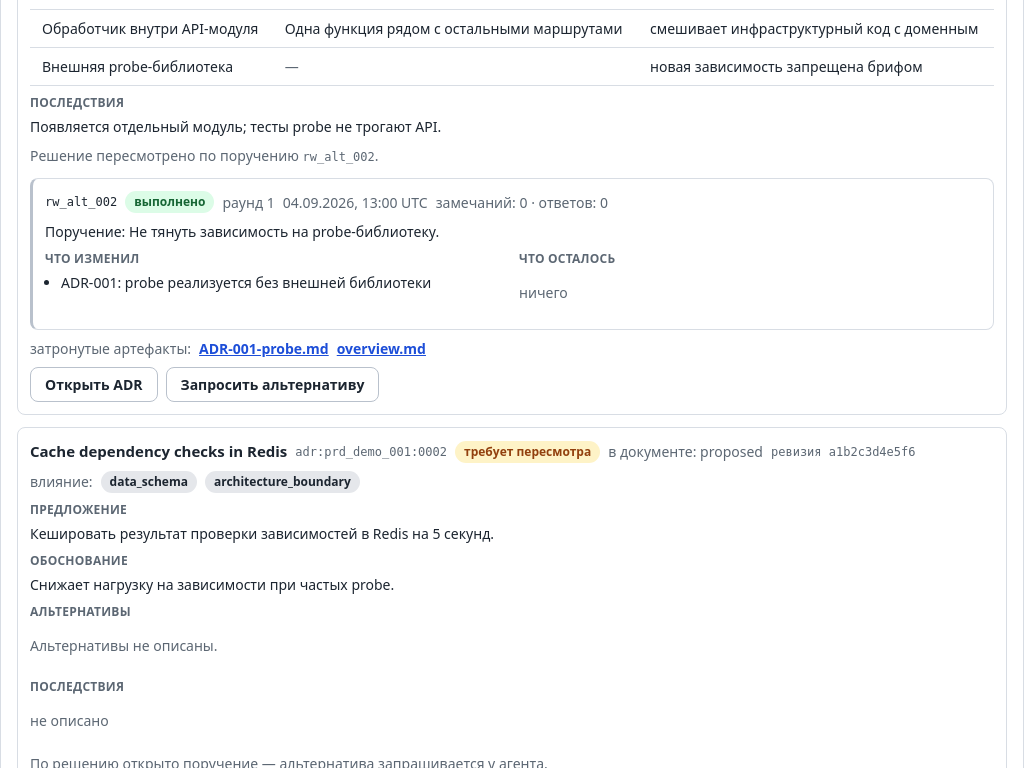
Test: ArchitecturePhase (T095/T093) › shows the 409 server text when another order of the phase is pending
(page scrolled)
Click the button with test id "alternative-toggle-adr:prd_demo_001:0001" at (273, 385), box [166, 368, 380, 402]
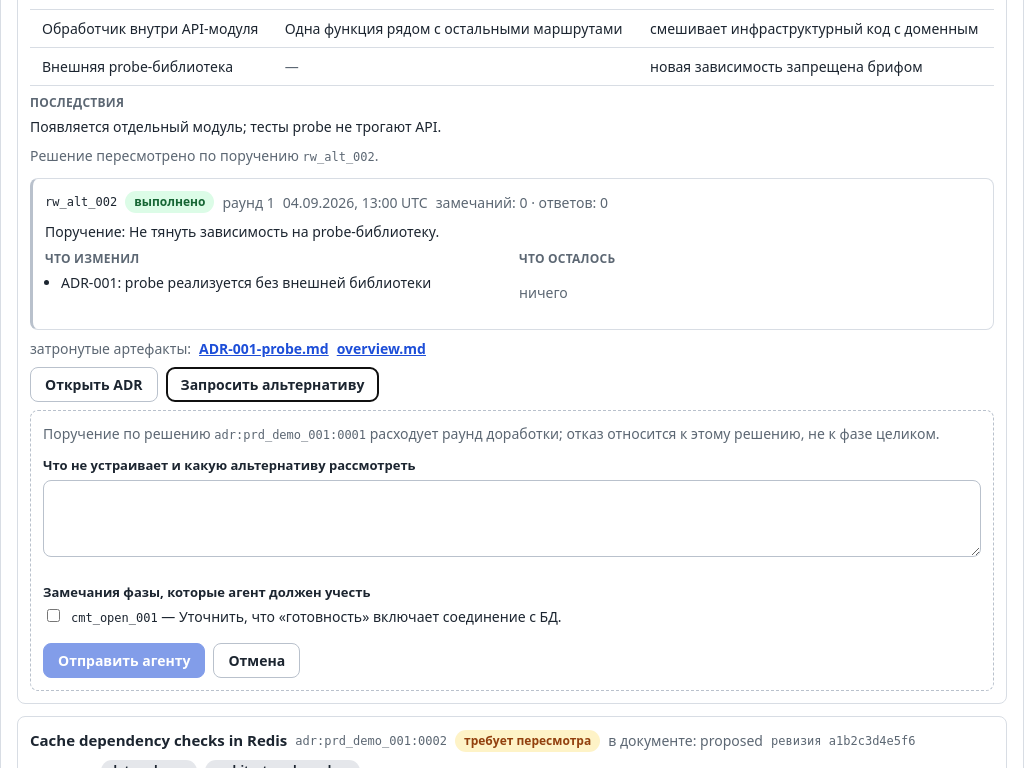
Type "x" into the text box with test id "alternative-instruction-adr:prd_demo_001:0001" at (512, 518), box [43, 480, 981, 557]
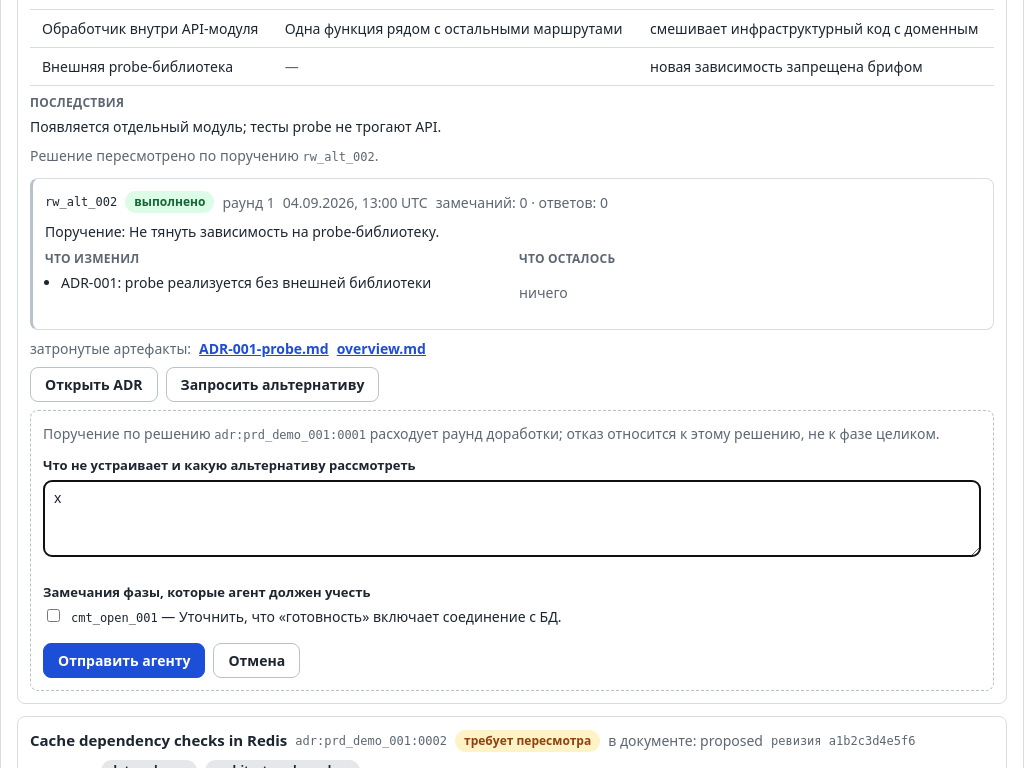
Click the button with test id "alternative-submit-adr:prd_demo_001:0001" at (124, 661), box [43, 644, 206, 678]
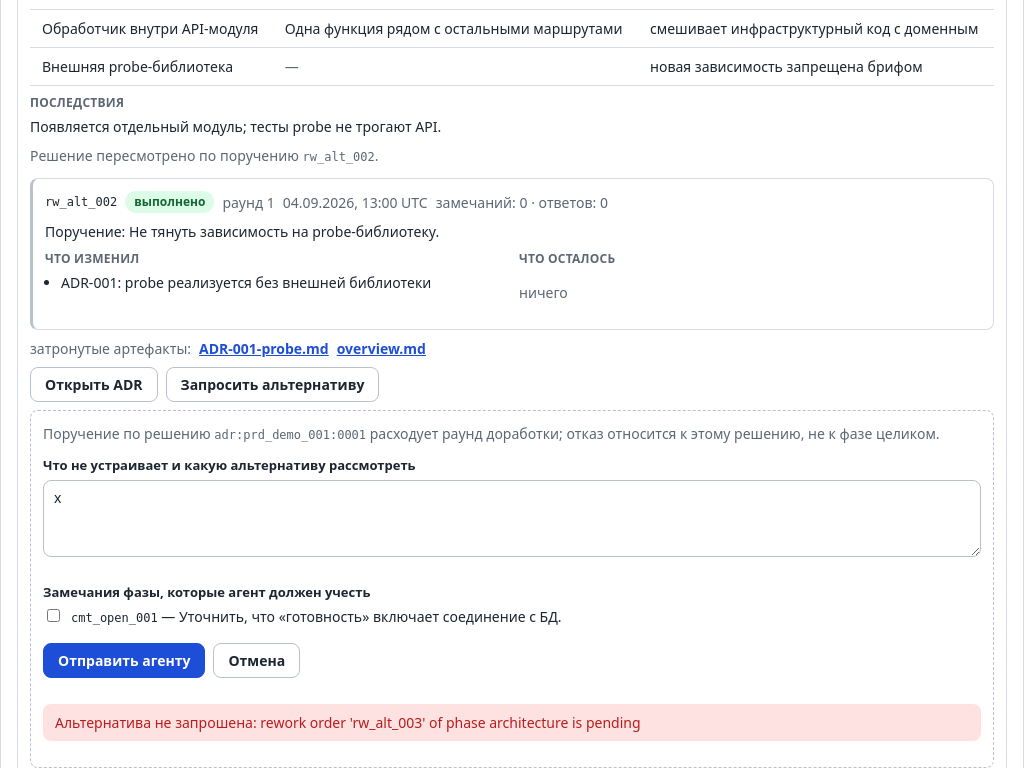
Expected: the form with test id "alternative-form-adr:prd_demo_001:0001" is shown, [30, 410, 994, 767]
Expected: the text "rework order 'rw_alt_003' of phase architecture is pending" is shown, [260, 714, 641, 732]
